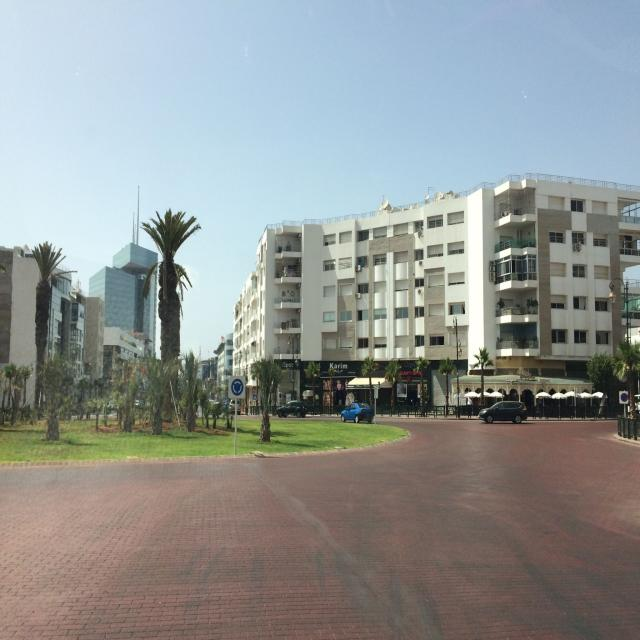forb_stopping: (620, 393, 628, 402)
